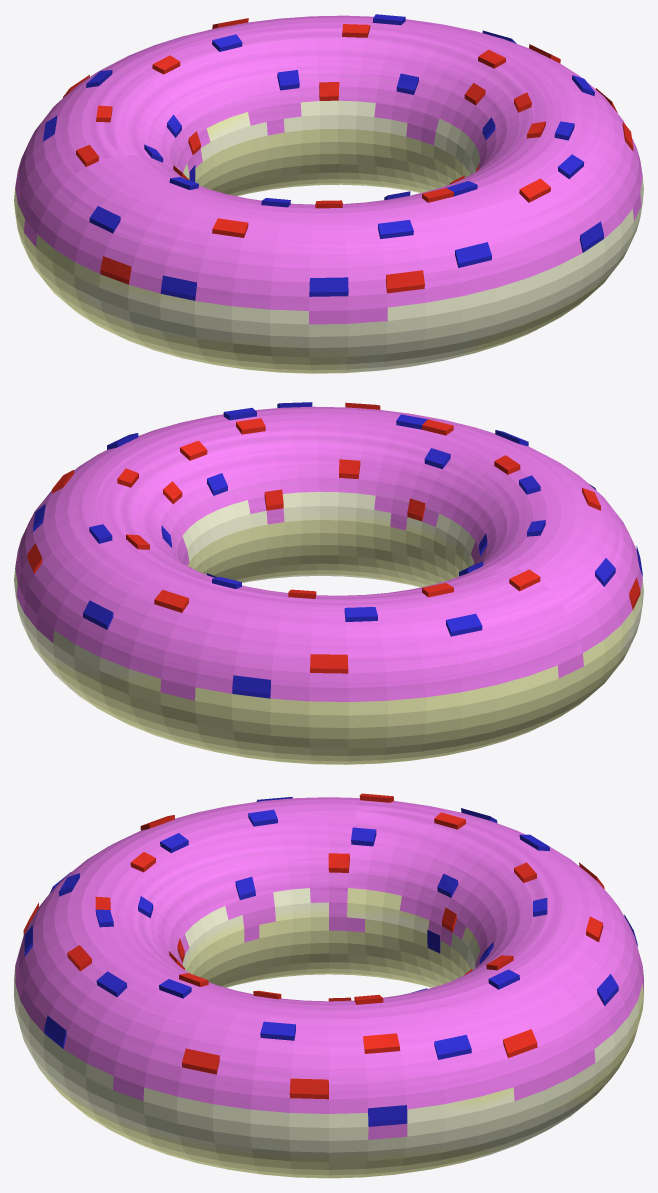
File: TestingBlenderDONOUGHTseperate.gltf
3 views of the same model, one above another, from view 1: azimuth 30°, elevation 25°; view 2: azimuth 150°, elevation 25°; view 3: azimuth 270°, elevation 25° (orthographic). The views are drawn at different scales.
Visible parts, largest first — view 1: Torus.003; view 2: Torus.003; view 3: Torus.003.
Boxes of the visible parts, x1=… form: Torus.003: x1=14, y1=14, x2=643, y2=373; Torus.003: x1=14, y1=402, x2=643, y2=764; Torus.003: x1=14, y1=793, x2=643, y2=1178.
Bounding box in the file's own units: 11.95 × 3.27 × 11.34.
Materials: 4 (4 with a texture image).
